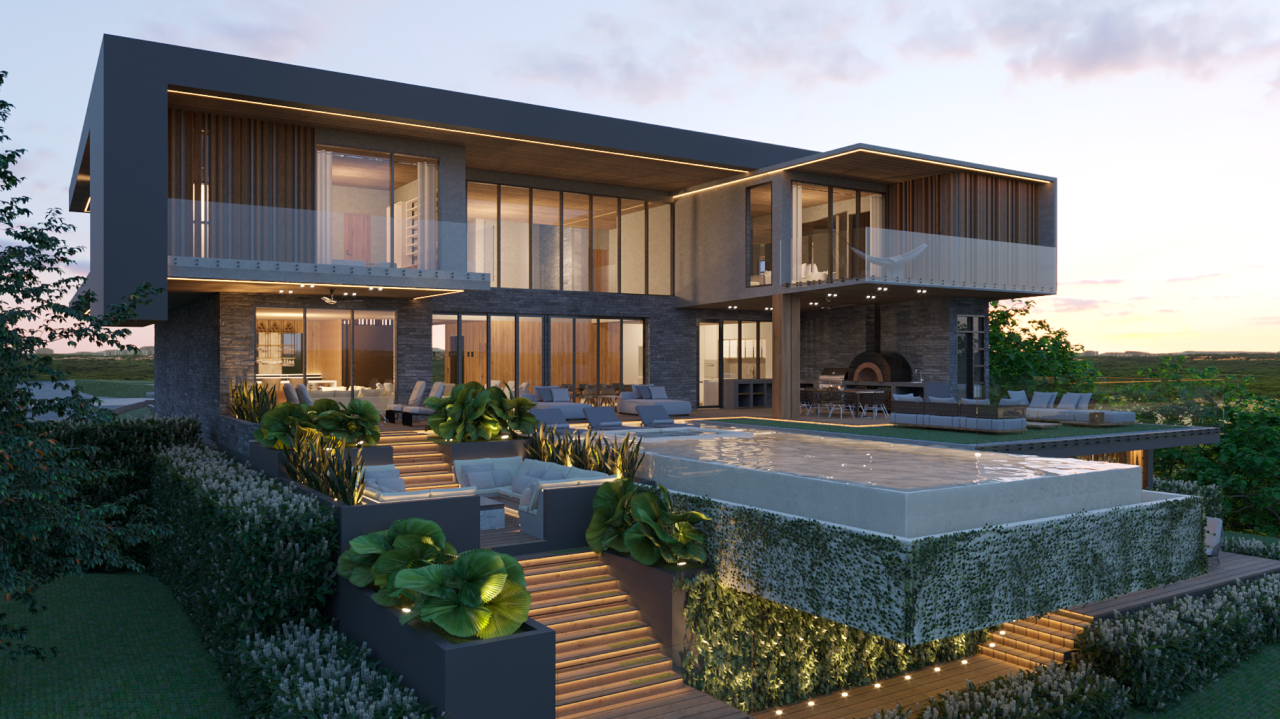House: (49, 24, 1239, 685)
